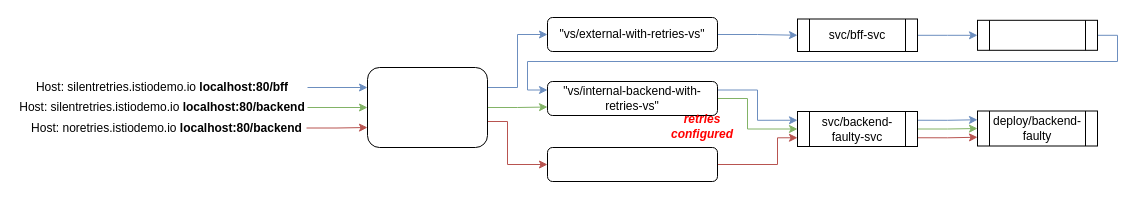
Image size: 1143x199. Some labels were removed from this diagram. The centre of each missing label's shape, as x and y in pixels:
"gw/shared-gateway": (427,107)
"vs/external-backend-without-retries-vs ": (632,164)
deploy/bff: (1037,34)
